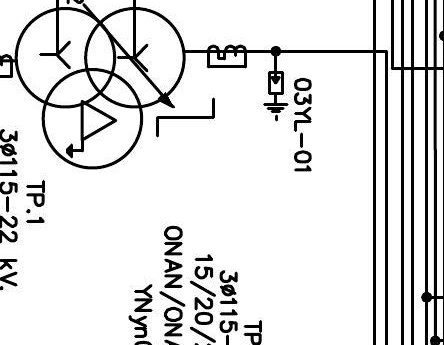11522_tx_ynyn0d1: (13, 6, 187, 171)
115_la: (263, 70, 289, 122)
